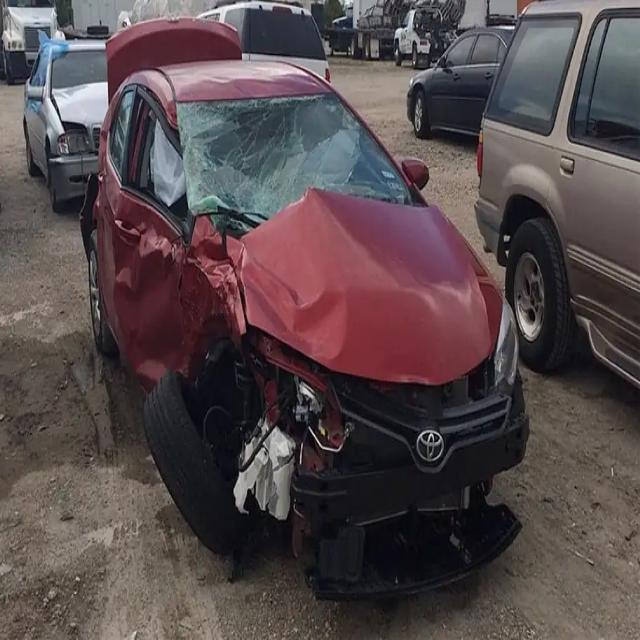Accident: (83, 14, 534, 598)
